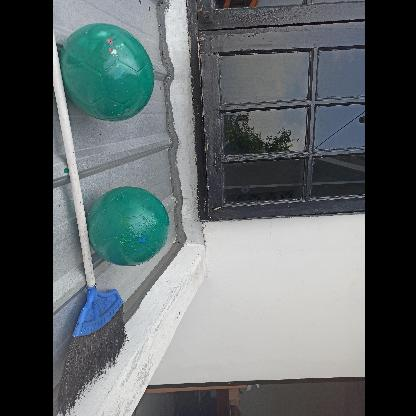green_ball: (55, 23, 155, 123), (87, 183, 171, 267)
